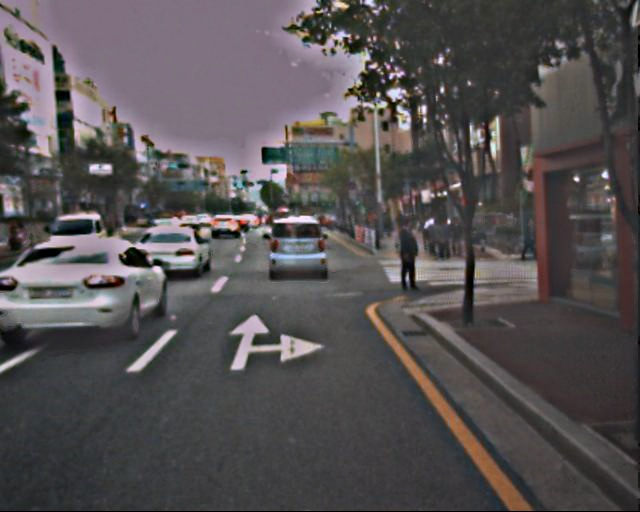person: (391, 218, 422, 294), (424, 215, 464, 259), (521, 217, 542, 267)
